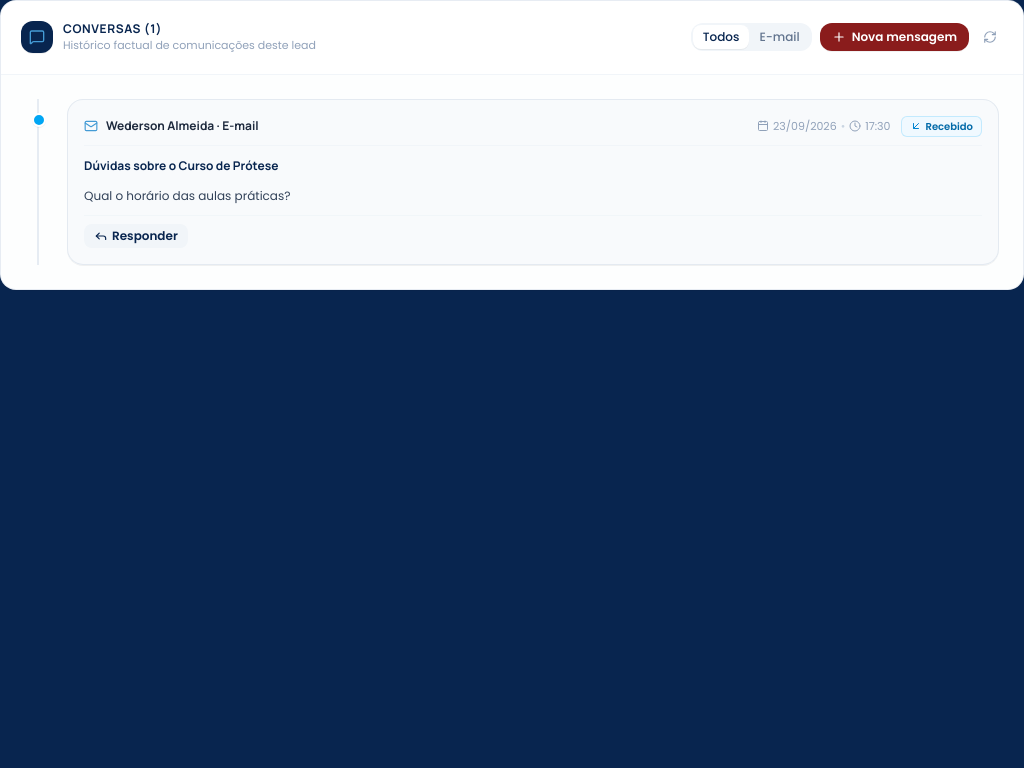
Test case: Batch 7.4: Two-Way Email Conversations UI & Threading › provides a "Responder" action on inbound messages that opens the internal composer with Re: subject
This screenshot has width=1024, height=768.
Click the button with test id "responder-btn-in-reply-action-1". click: (136, 236)
box: top-left (84, 224), bottom-right (188, 248)
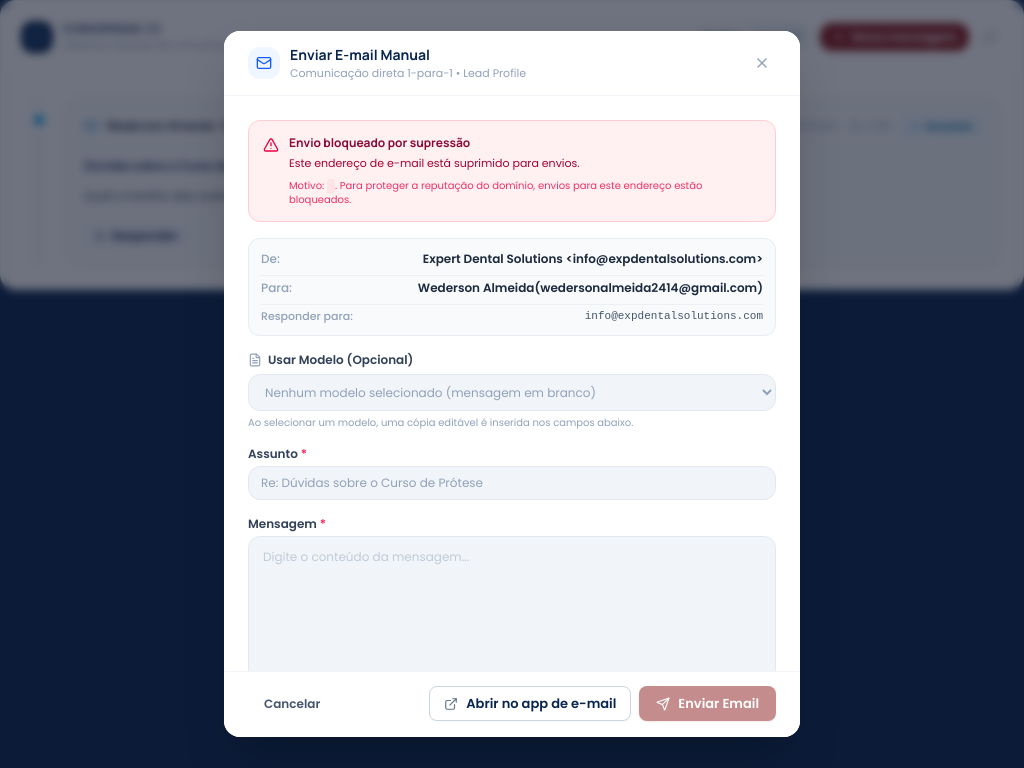
Expected: the dialog is shown
Expected: the field labelled "Assunto *" holds "Re: Dúvidas sobre o Curso de Prótese", top-left (248, 466), bottom-right (776, 500)
